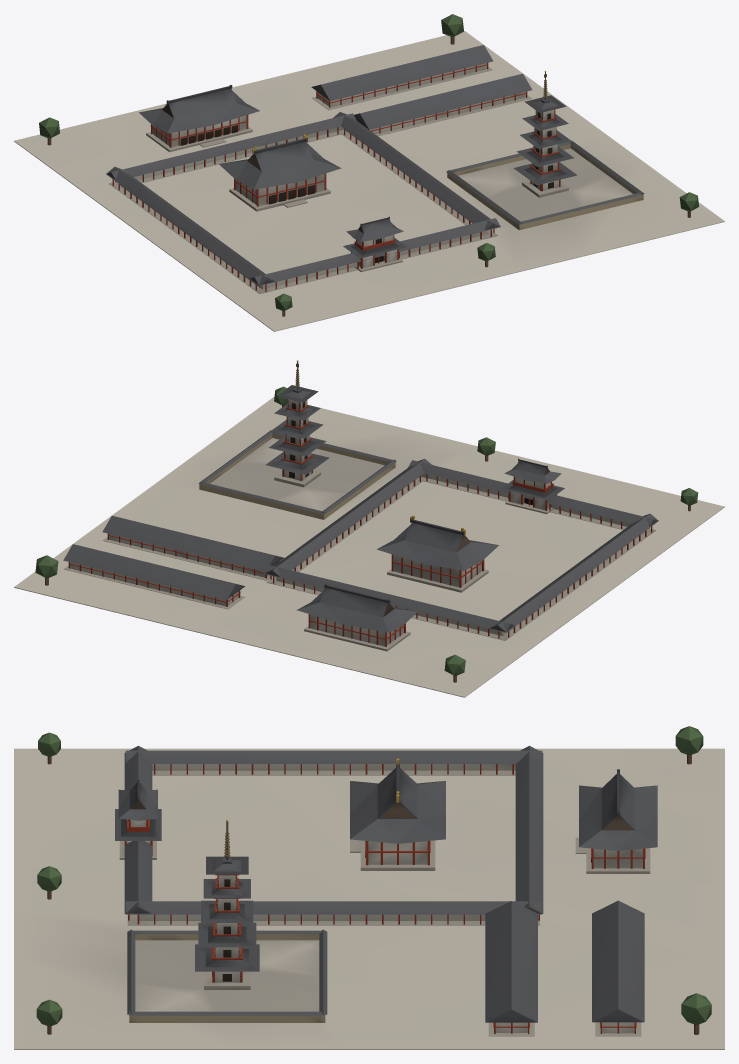
The model's file is gangoji.glb.
3 views of the same model, one above another, from view 1: azimuth 30°, elevation 25°; view 2: azimuth 150°, elevation 25°; view 3: azimuth 270°, elevation 25° (orthographic). The views are drawn at different scales.
Visible parts, largest first — view 1: p0_grounds, p1_halls, p2_roofs; view 2: p0_grounds, p1_halls, p2_roofs; view 3: p0_grounds, p2_roofs, p1_halls.
Part boxes in pixels (left/top/right/bottom): p0_grounds: left=14, top=31, right=724, bottom=331; p1_halls: left=106, top=62, right=531, bottom=293; p2_roofs: left=39, top=14, right=698, bottom=316; p0_grounds: left=14, top=396, right=724, bottom=697; p1_halls: left=64, top=458, right=658, bottom=651; p2_roofs: left=35, top=360, right=698, bottom=682; p0_grounds: left=14, top=748, right=724, bottom=1049; p2_roofs: left=36, top=726, right=711, bottom=1034; p1_halls: left=119, top=745, right=650, bottom=1036.
Bounding box in the file's own units: 200 × 50.52 × 200.
